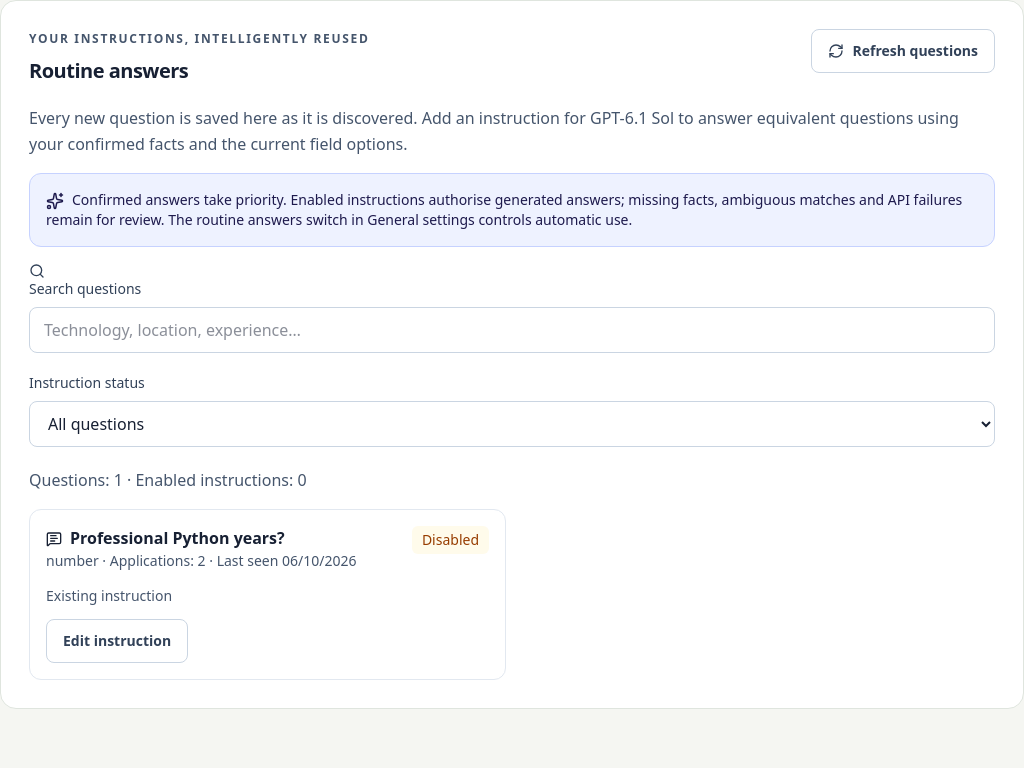
Test: shows generation progress and prevents duplicate requests, edits and saves
Click the button "Edit instruction".
click(117, 641)  # box left=46, top=619, right=188, bottom=663
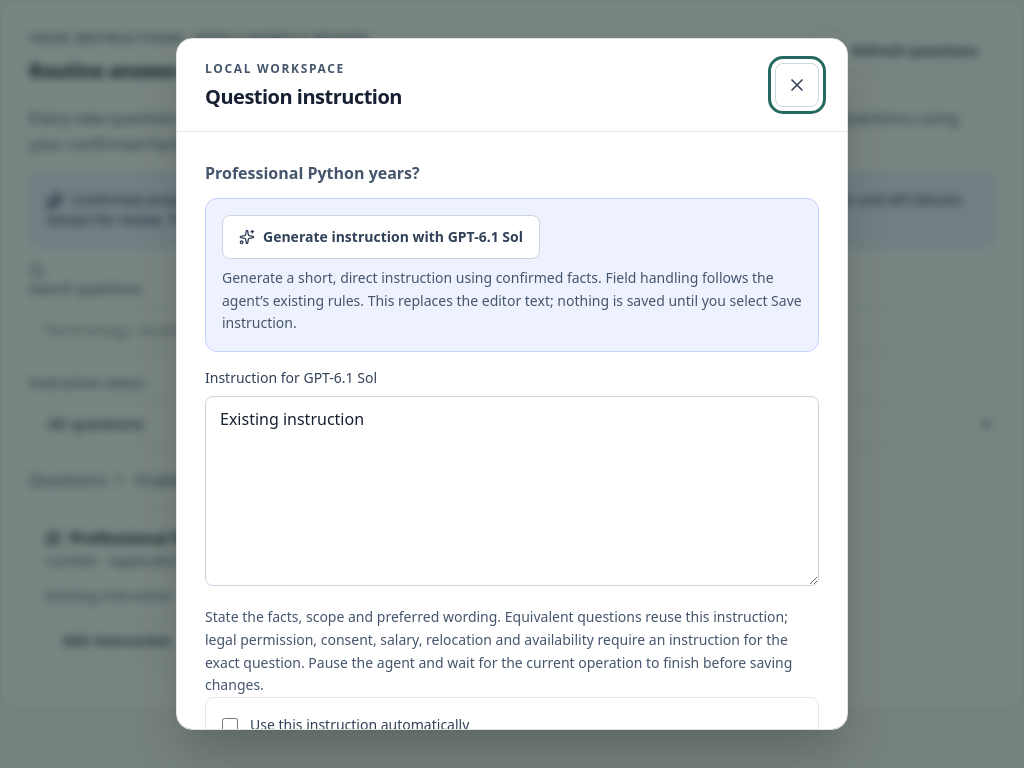
Click the button "Generate instruction with GPT-6.1 Sol".
click(381, 237)  # box left=222, top=215, right=540, bottom=259
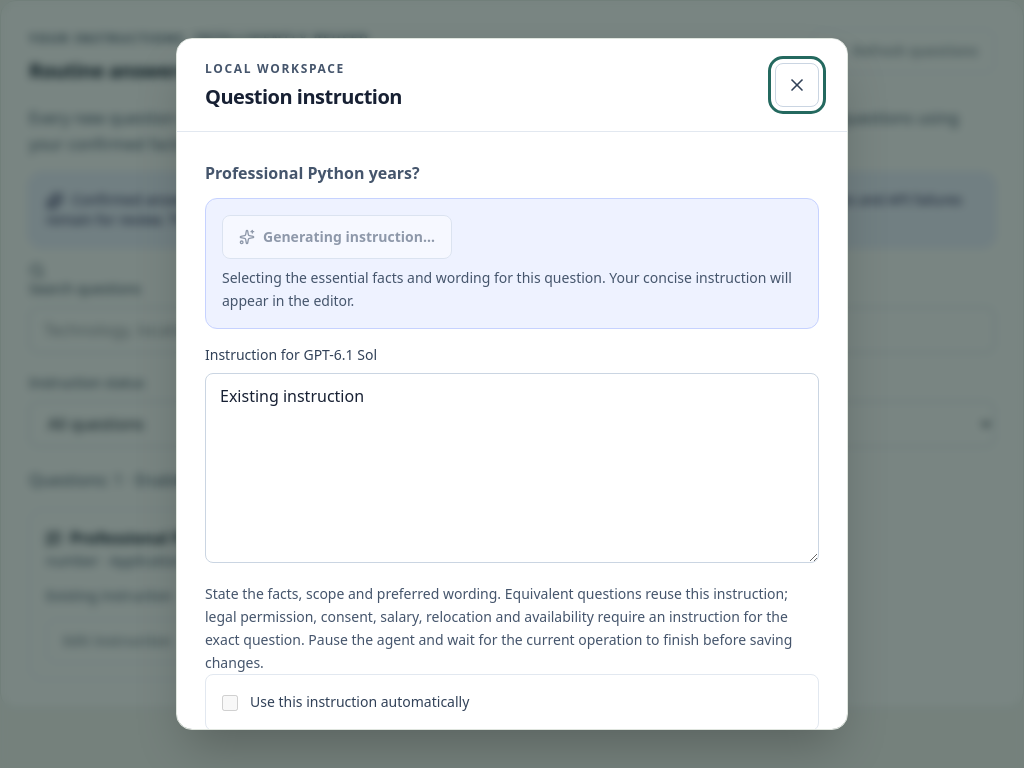
Result: the text box labelled "Instruction for GPT-6.1 Sol" is disabled at left=205, top=373, right=819, bottom=563
Result: the button "Generating instruction…" is disabled
Click the button "Generating instruction…".
click(337, 237)  # box left=222, top=215, right=452, bottom=259
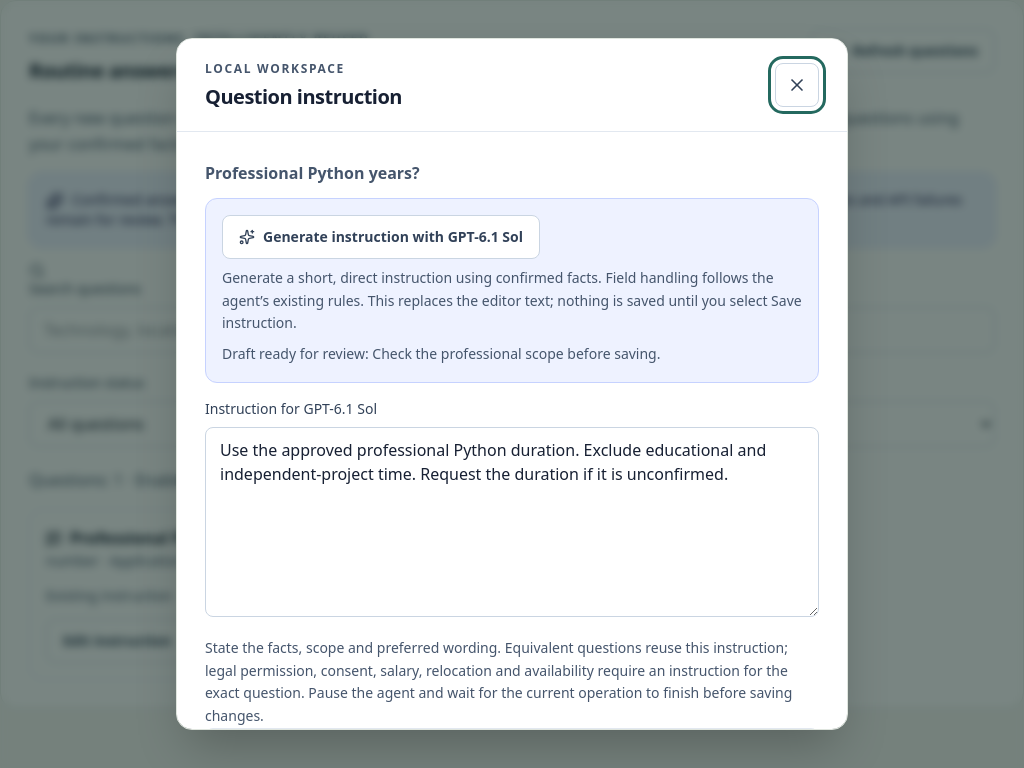
Result: the button "Generate instruction with GPT-6.1 Sol" is enabled at left=222, top=215, right=540, bottom=259
Result: the text box labelled "Instruction for GPT-6.1 Sol" holds "Use the approved professional Python duration. Exclude educational and independent-project time. Request the duration if it is unconfirmed." at left=205, top=427, right=819, bottom=617
